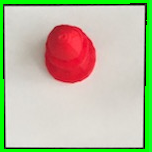Red Bishop: (40, 22, 99, 85)
